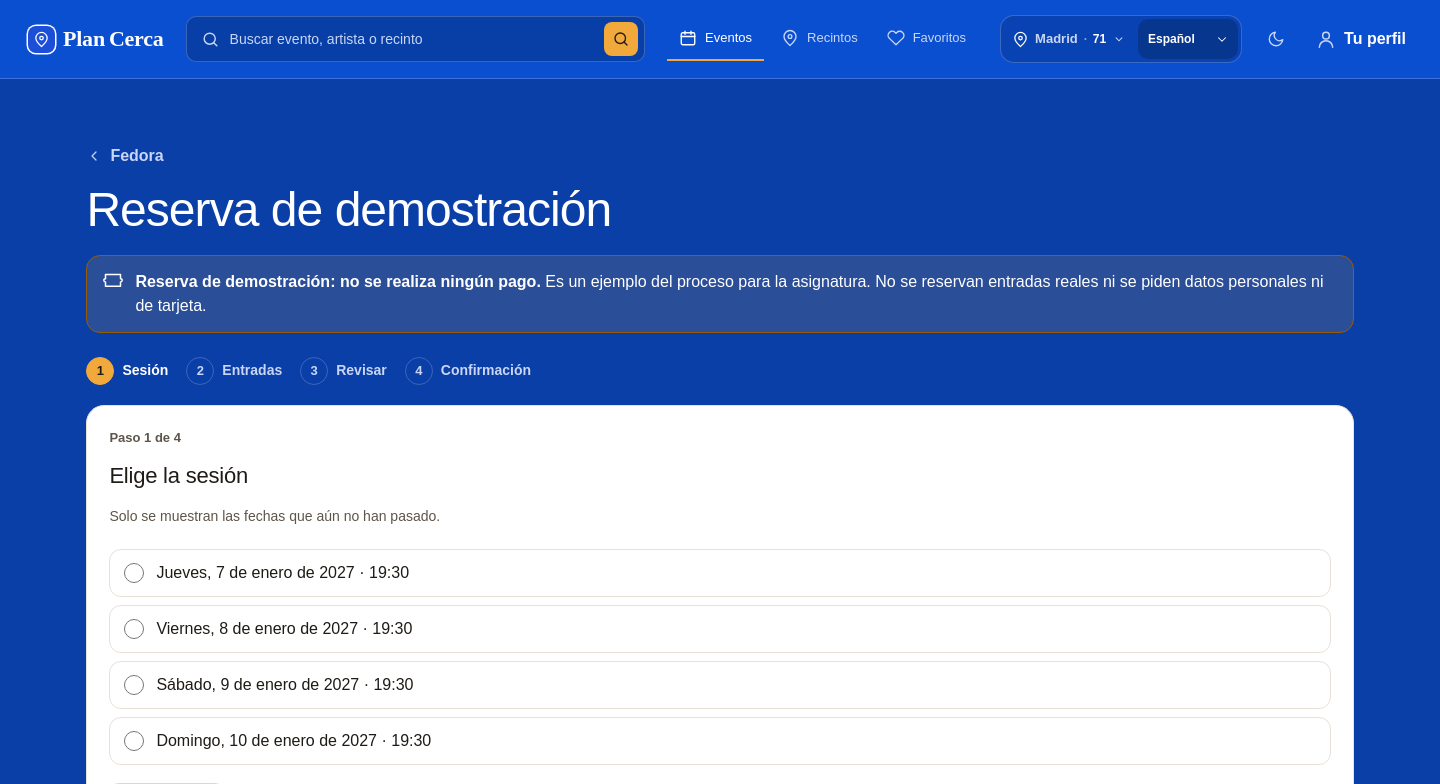
Demo booking › goes through session, tickets, review and confirmation without storing anything or asking for personal data
Expected: the list item "1 Sesión" is shown, [86,357,168,385]
Click the radio button labelled "viernes, 8 de enero de 2027 · 19:30": (134, 629) [124,619,144,639]
(page scrolled)
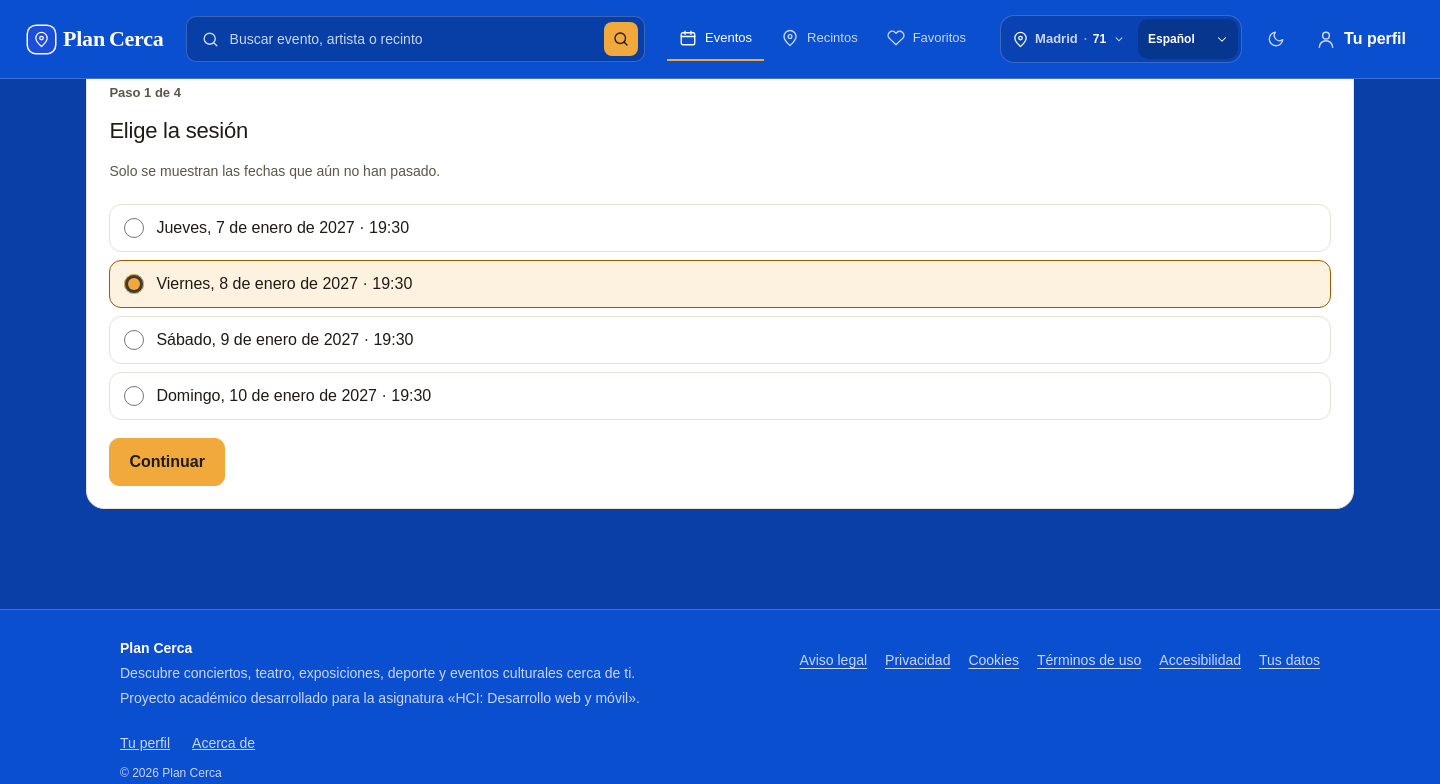
Click the button "Continuar": (167, 462) [109,438,225,486]
(page scrolled)
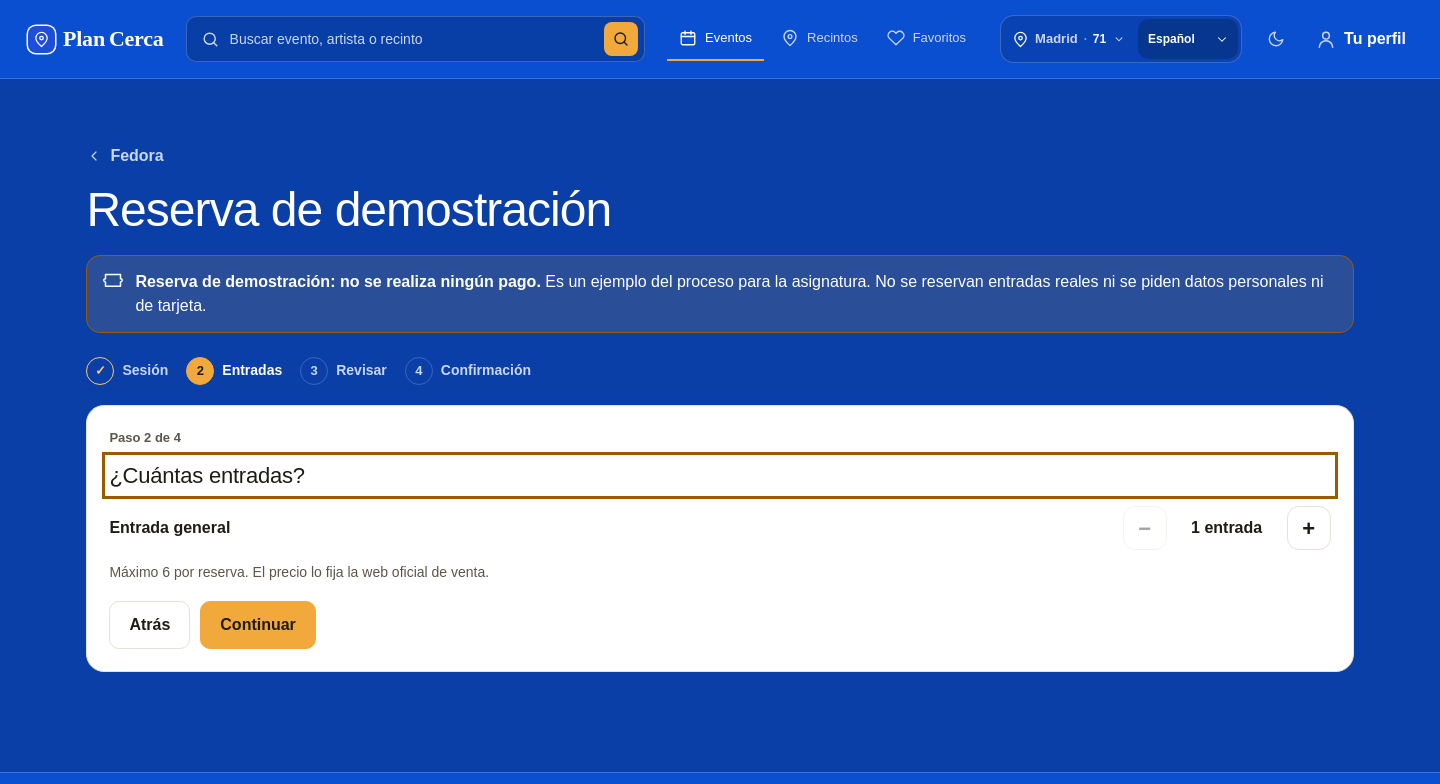
Click the button named "Una entrada más": (1309, 528) [1287,506,1331,550]
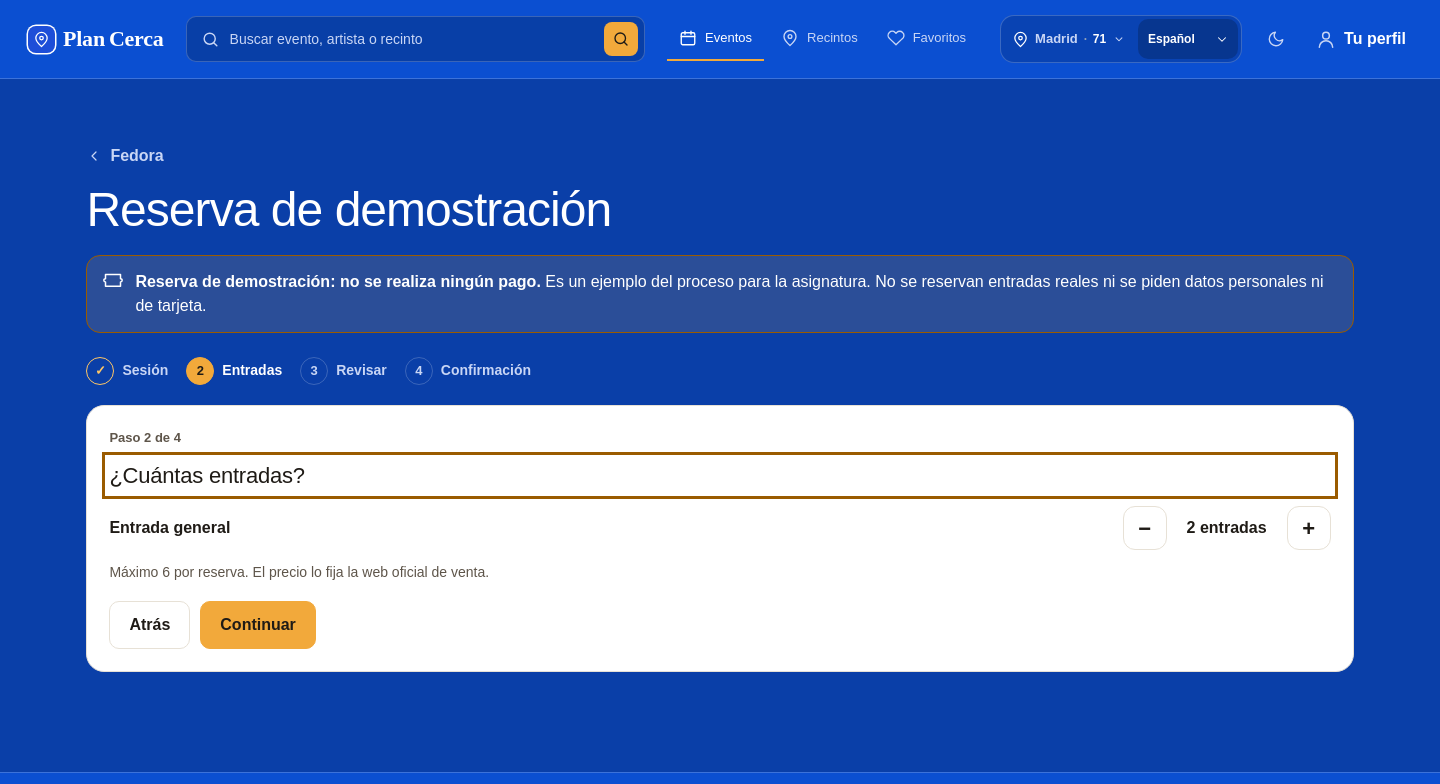
Click the button named "Una entrada más": (1309, 528) [1287,506,1331,550]
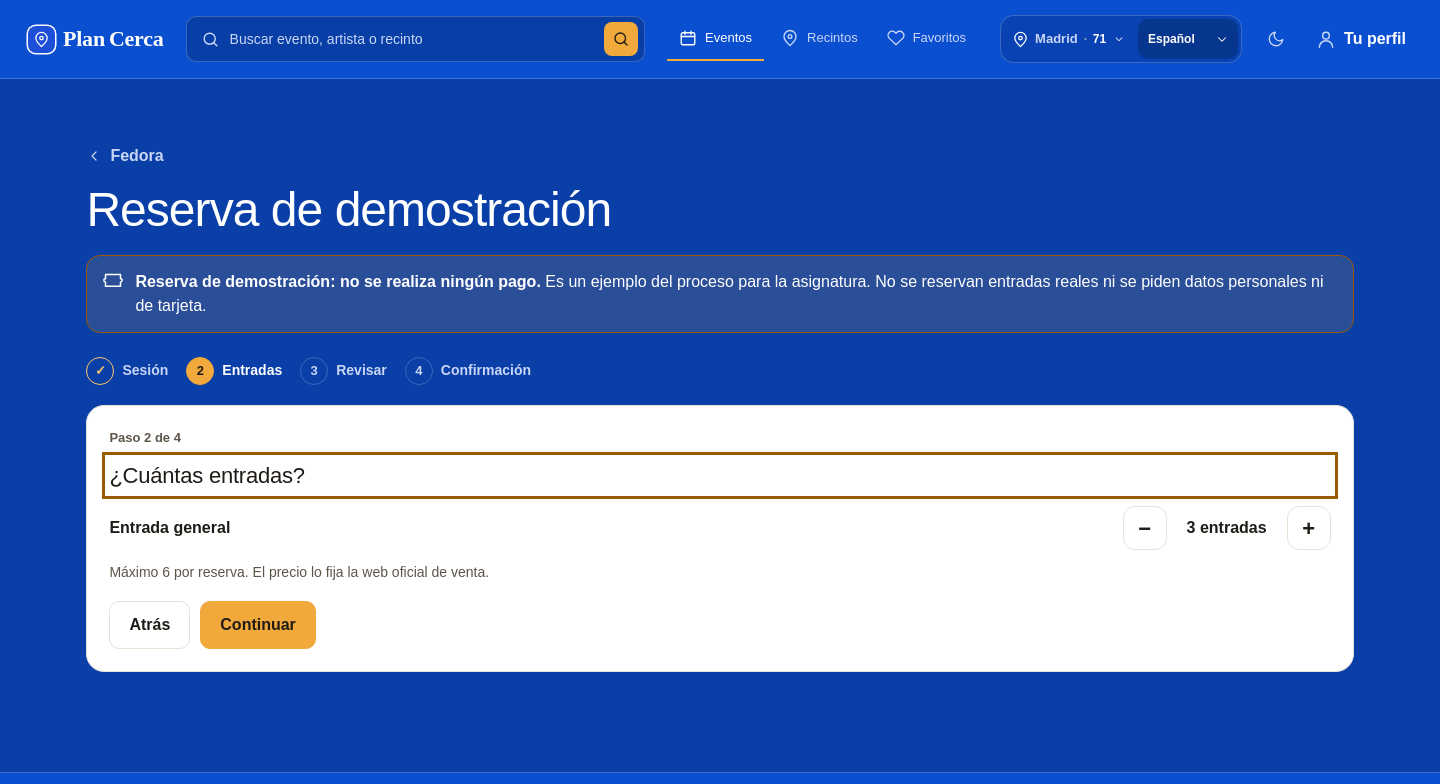
Result: the text "3 entradas" is shown at [1187,519,1267,536]
Click the button "Continuar": (258, 625) [200,601,316,649]
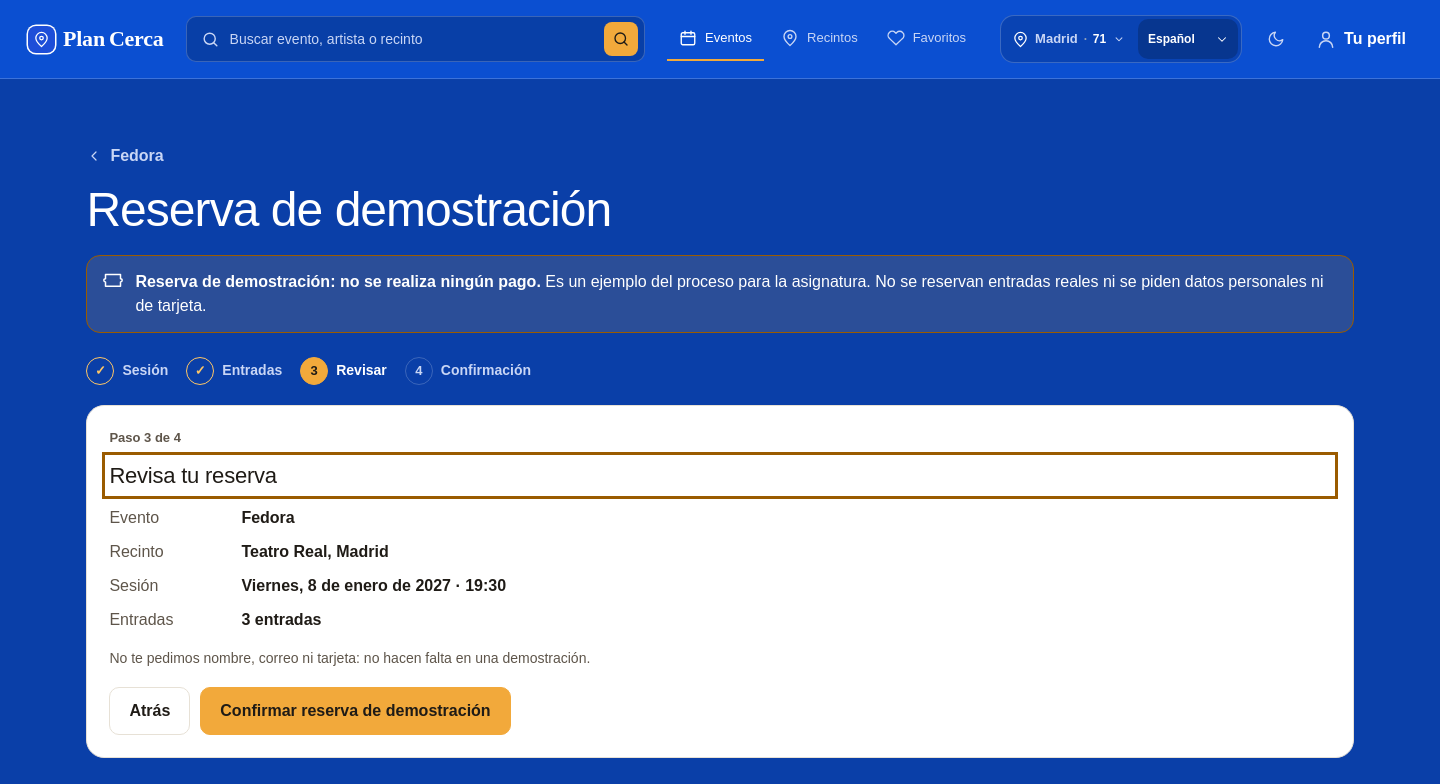
Result: the heading "Revisa tu reserva" is shown at [109,463,277,488]
Result: the element named "." shows "Fedora" at [241,509,295,526]
Result: the element named "." shows "8 de enero de 2027" at [241,577,506,594]
Click the button "Confirmar reserva de demostración": (355, 711) [200,687,511,735]
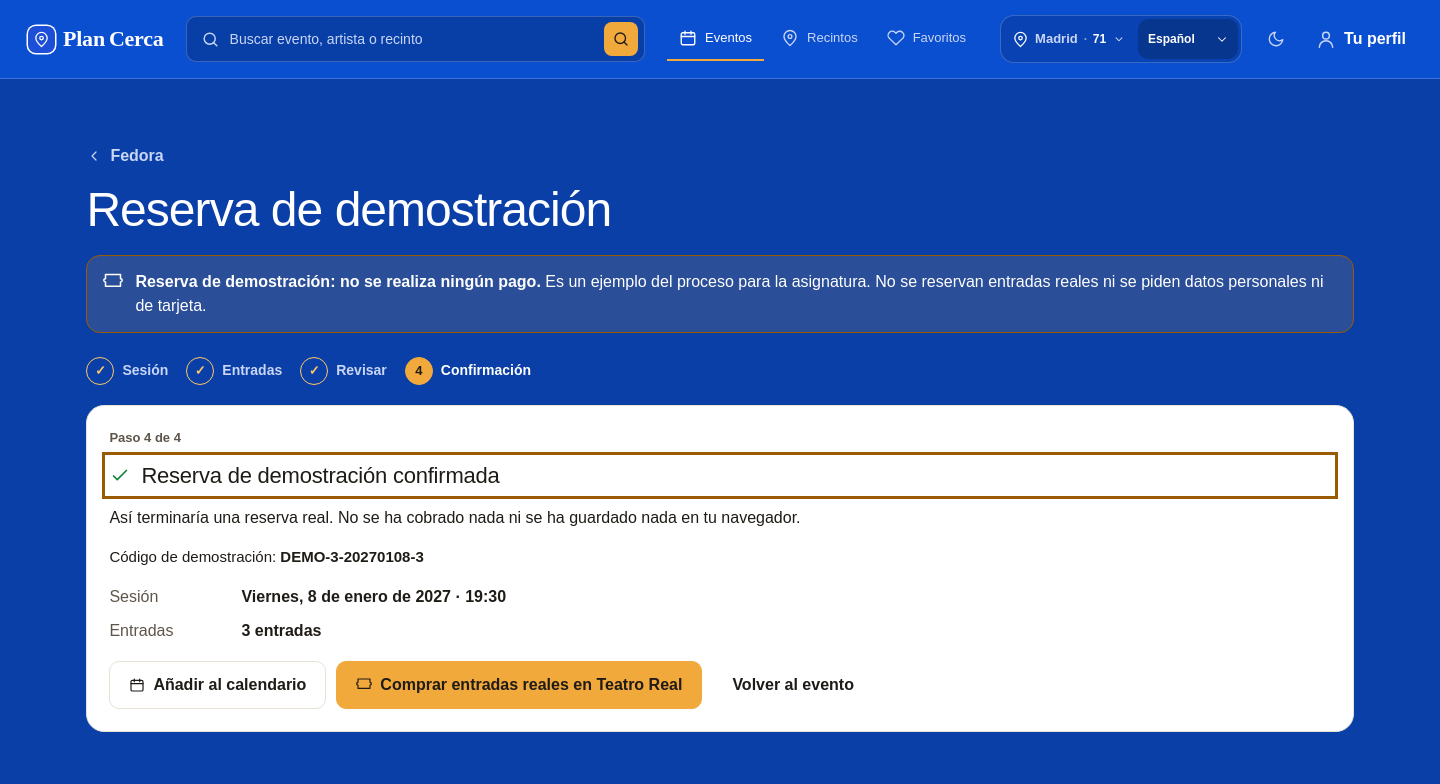
Result: the heading "Reserva de demostración confirmada" is shown at [109,463,500,488]
